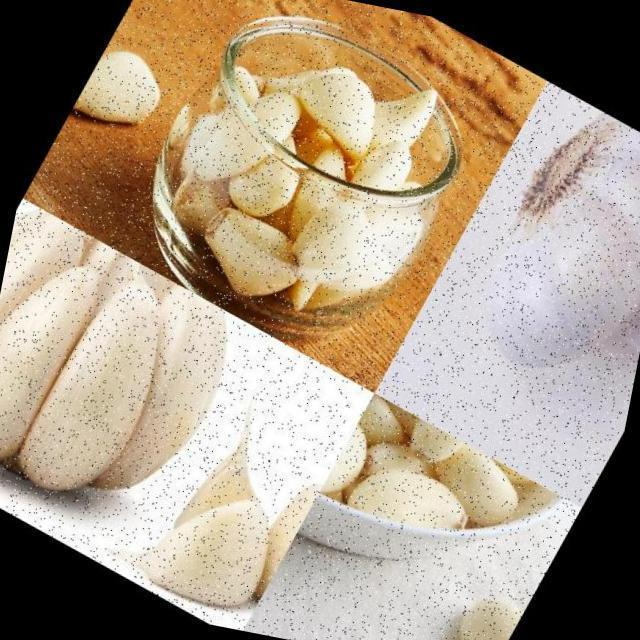garlic: (114, 0, 497, 370), (0, 198, 276, 563), (428, 78, 640, 429), (115, 381, 344, 640), (304, 386, 546, 598), (63, 34, 182, 158), (441, 581, 527, 640), (369, 613, 483, 640)
